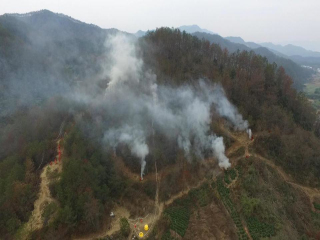smoke: (78, 32, 252, 175)
